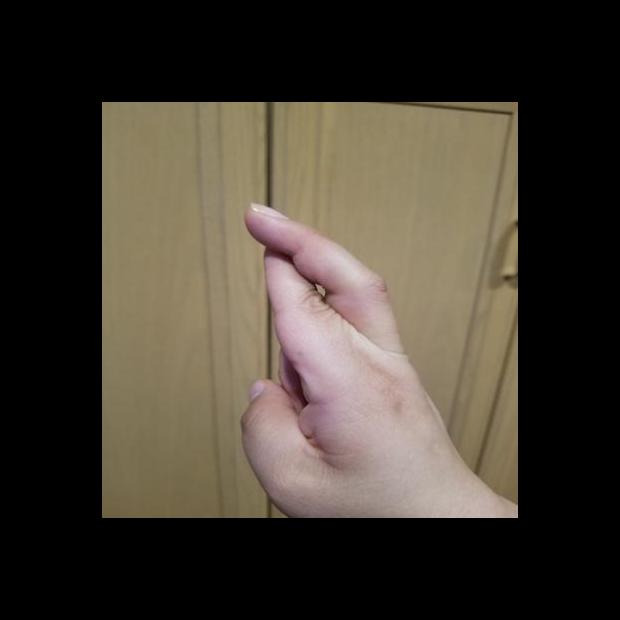Q: (234, 198, 488, 517)
